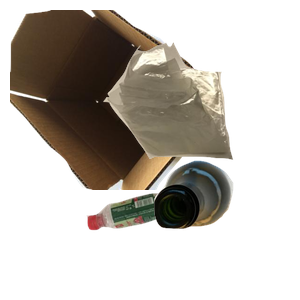cardboard: (10, 10, 218, 190)
glass: (151, 158, 300, 300)
plastic: (84, 191, 242, 300)
trash: (101, 40, 300, 192)
